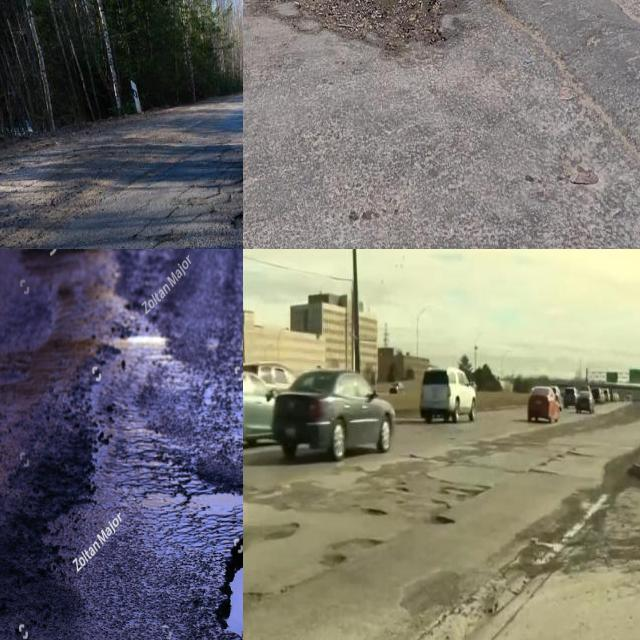Pothole: (498, 0, 640, 152), (296, 0, 446, 50), (320, 538, 382, 566), (243, 585, 286, 614), (265, 524, 299, 540), (434, 516, 455, 524), (365, 509, 388, 515), (398, 487, 409, 491)
